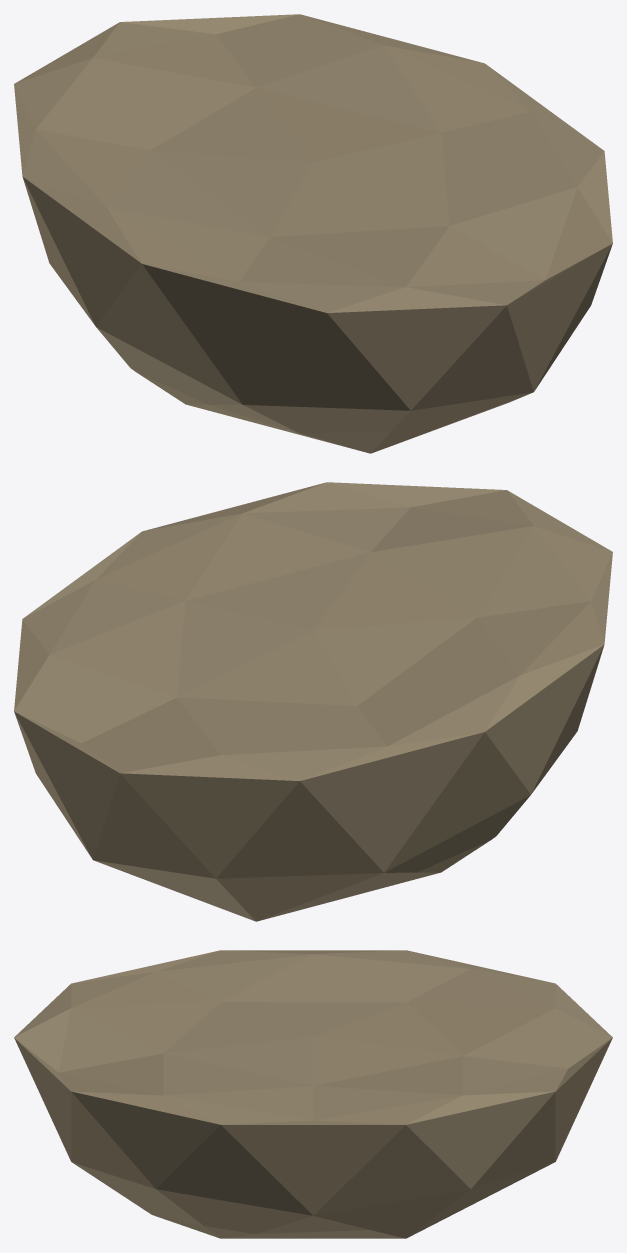
File: FloatLong.fbx
3 renders of one model, top to bottom at view 1: azimuth 30°, elevation 25°; view 2: azimuth 150°, elevation 25°; view 3: azimuth 270°, elevation 25°, orthographic. The views are drawn at different scales.
Parts seen in each view (by area): view 1: Floaty Island long; view 2: Floaty Island long; view 3: Floaty Island long.
Part boxes in pixels (x1,y1,x2,y2): Floaty Island long: [14, 14, 612, 453]; Floaty Island long: [14, 482, 612, 921]; Floaty Island long: [14, 950, 612, 1238].
Size of the model in its own units: 5016 by 2632 by 7269.
